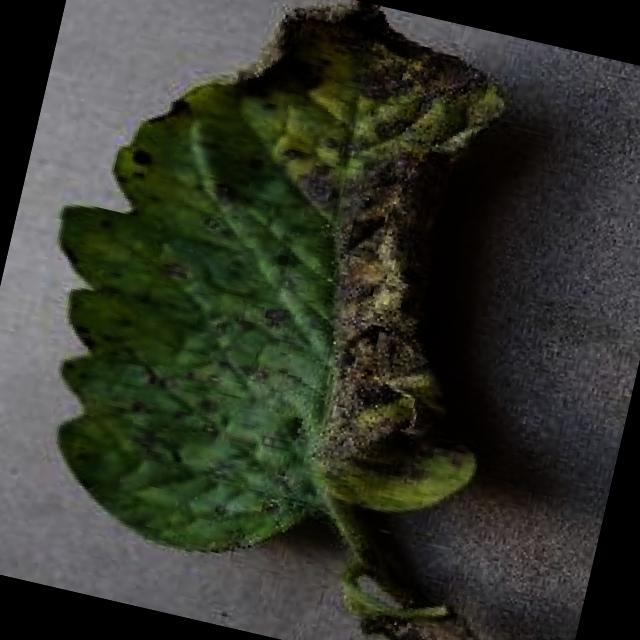Tomato Early blight leaf: (0, 0, 579, 608)
